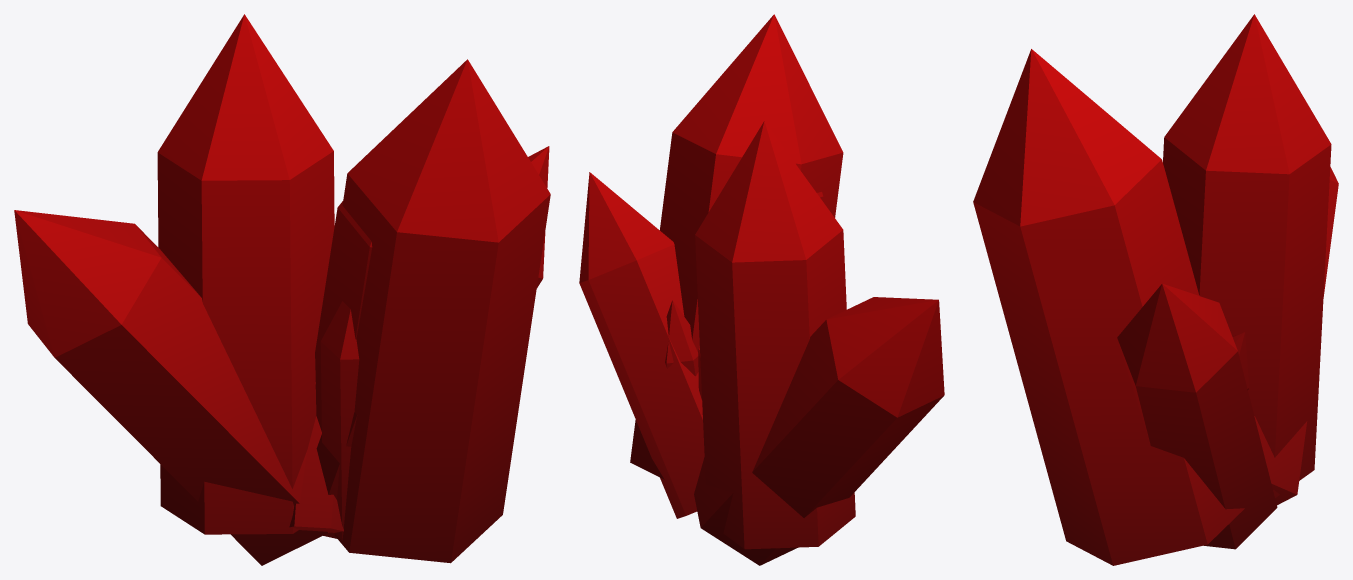
File: crystal_2.glb
The picture shows the model from 3 angles, left to right: view 1: azimuth 30°, elevation 25°; view 2: azimuth 150°, elevation 25°; view 3: azimuth 270°, elevation 25°; orthographic projection. The views are drawn at different scales.
Visible parts, largest first — view 1: crystal_2; view 2: crystal_2; view 3: crystal_2.
Part boxes in pixels (left/top/right/bottom): crystal_2: left=14, top=14, right=550, bottom=565; crystal_2: left=579, top=14, right=944, bottom=565; crystal_2: left=973, top=14, right=1338, bottom=565.
Size of the model in its own units: 1.48 by 1.6 by 1.04.
